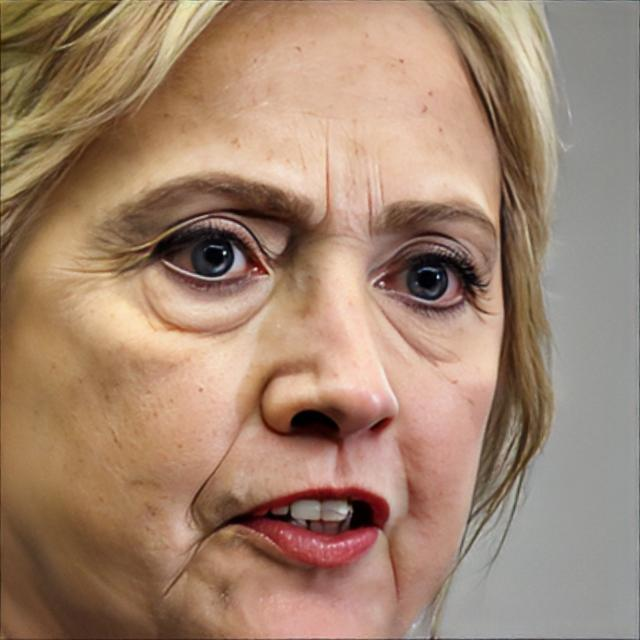anger: (59, 52, 508, 640)
